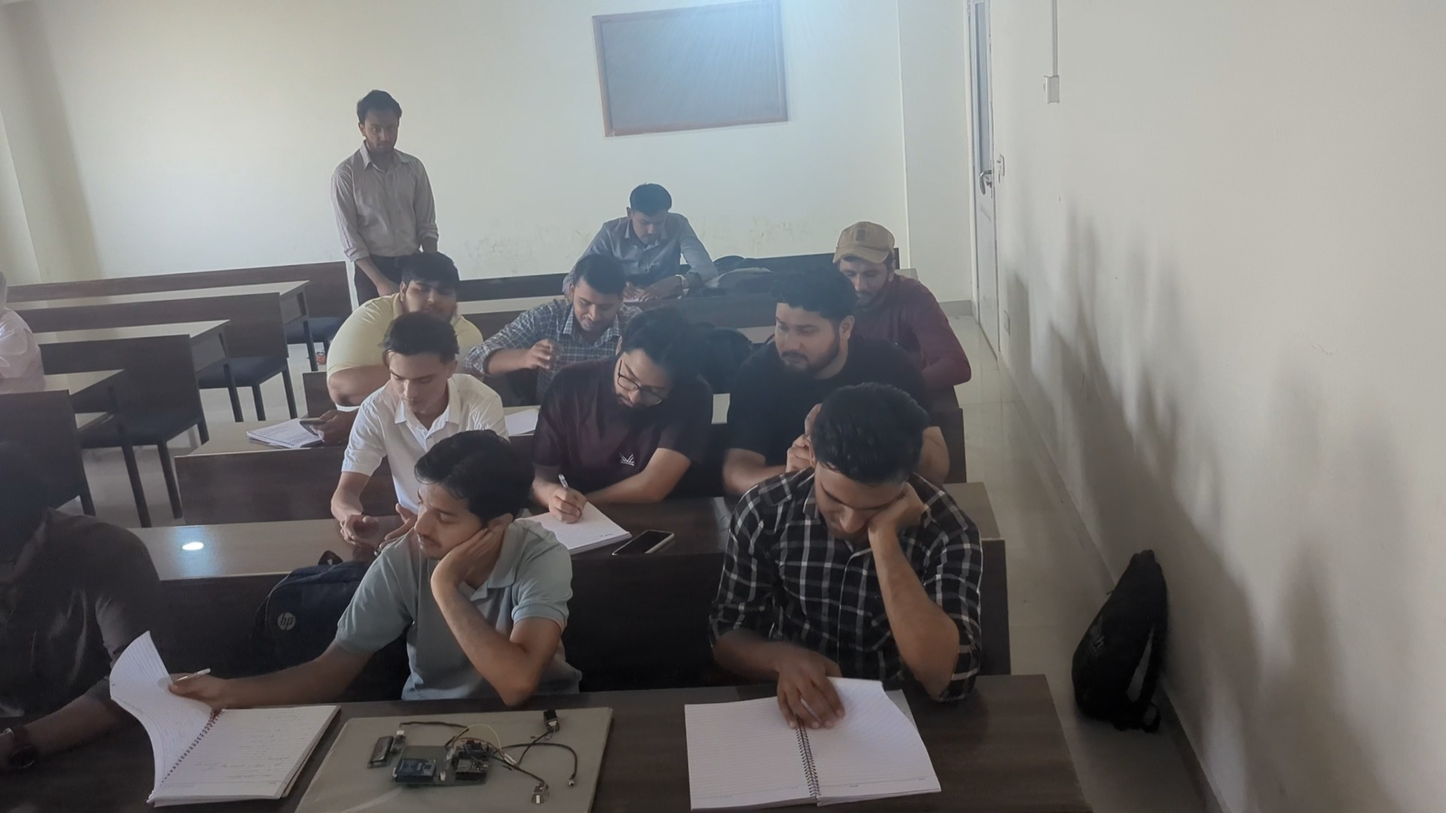handrise: (482, 272, 639, 369)
read: (110, 428, 577, 806), (683, 378, 986, 813), (711, 276, 881, 432), (839, 219, 967, 379)
stand: (329, 86, 439, 251)
turn_head: (328, 257, 469, 368)
using_device: (325, 327, 456, 531)
write: (518, 324, 725, 548), (587, 183, 704, 297)
